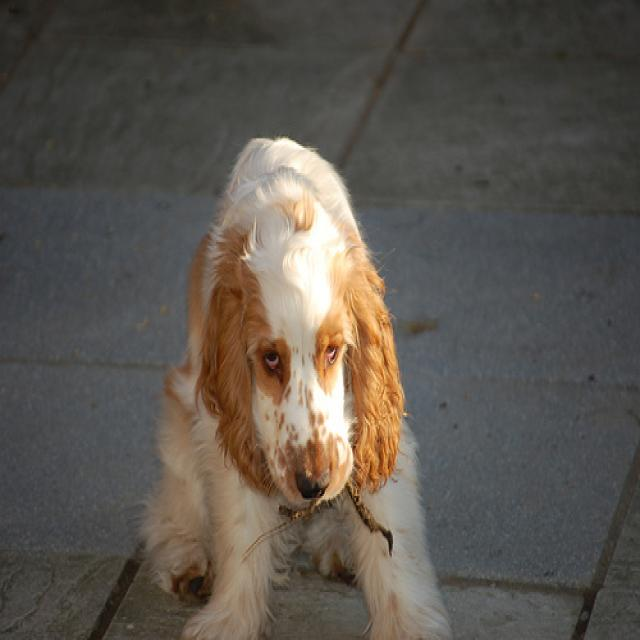dog-english_cocker_spaniel: (129, 119, 463, 636)
